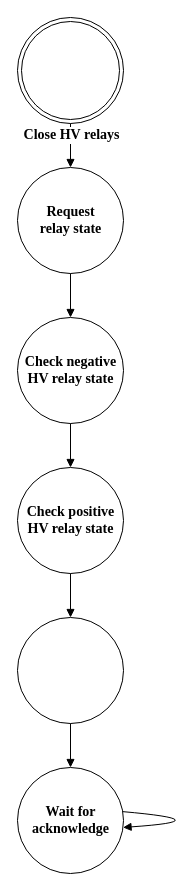
Some shapes in this 193 by 891 pixel diagram are drawn without their labels. The centre of each missing label's shape, as x and y in pixels:
Enable Start: [70,70]
Start insulation measurement: [70,670]
